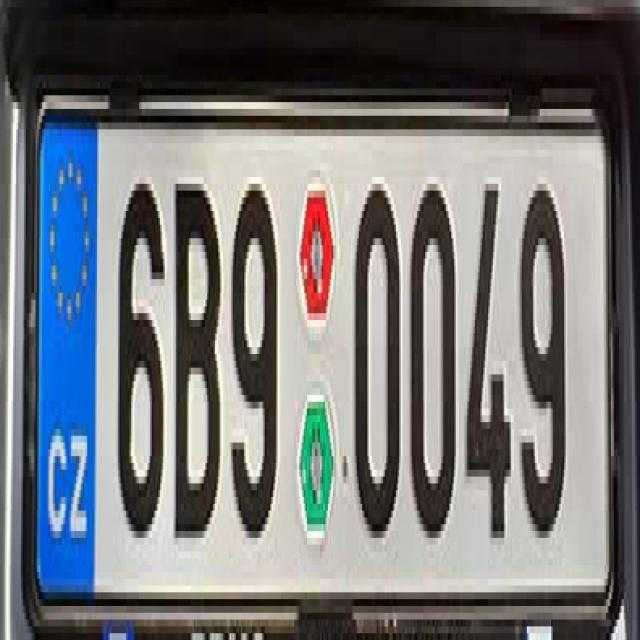EU: (24, 102, 617, 602)
Tcheque: (32, 109, 96, 590)
